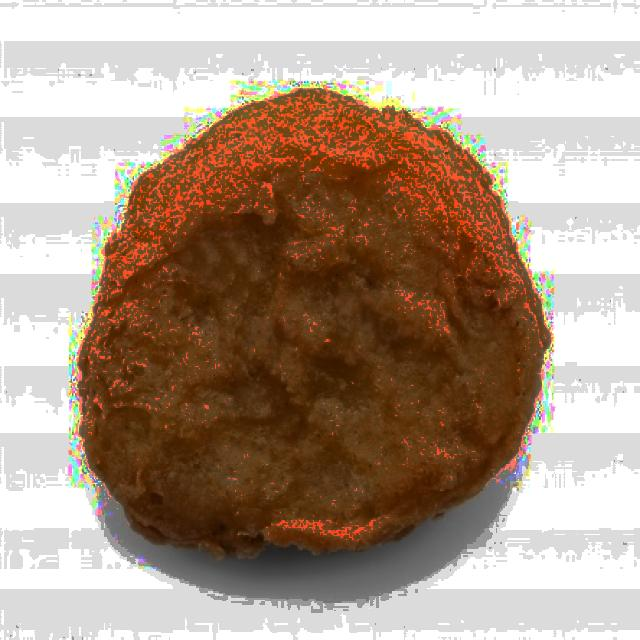chicken_nuggets: (81, 79, 562, 568)
